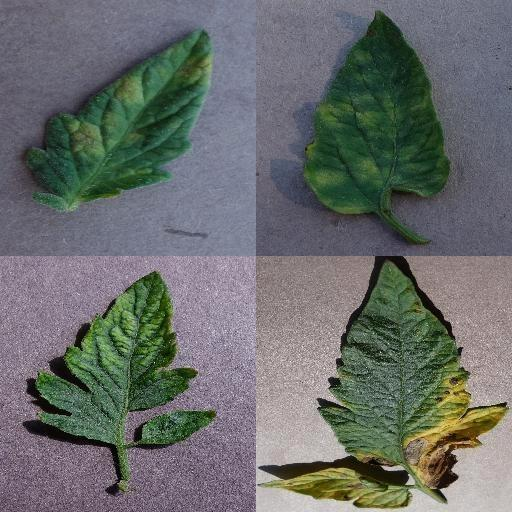Early Blight: (316, 257, 508, 485)
Leaf Mold: (28, 28, 214, 210), (302, 11, 452, 215)
Mosaic Virus: (36, 268, 200, 448)
